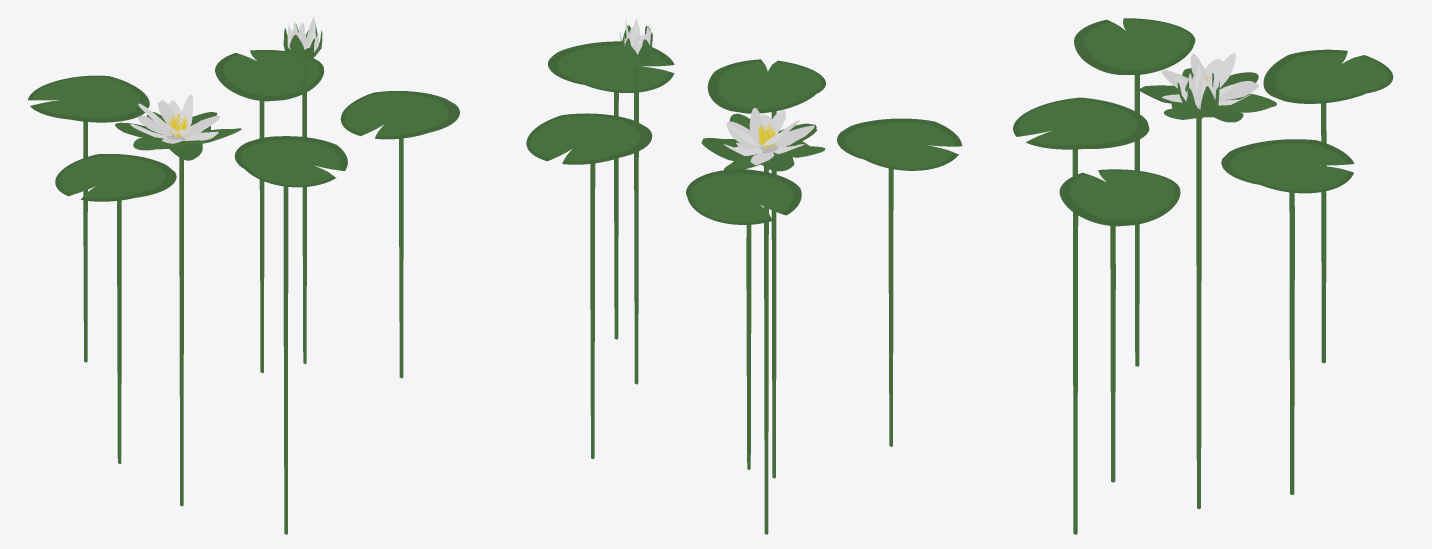
File: PT_Waterlily_01.fbx
3 renders of one model, left to right at view 1: azimuth 30°, elevation 25°; view 2: azimuth 150°, elevation 25°; view 3: azimuth 270°, elevation 25°, orthographic. The views are drawn at different scales.
Visible parts, largest first — view 1: PT_WaterLily_01_LOD0; view 2: PT_WaterLily_01_LOD0; view 3: PT_WaterLily_01_LOD0.
Boxes of the visible parts, x1,y1,x2,y2 form: PT_WaterLily_01_LOD0: [28, 17, 459, 534]; PT_WaterLily_01_LOD0: [526, 19, 962, 534]; PT_WaterLily_01_LOD0: [1013, 18, 1393, 534].
Size of what is drawn, in the model's own units: 162 by 180 by 131.
